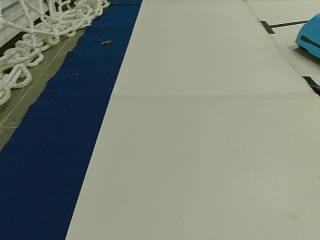car: (295, 12, 319, 57)
